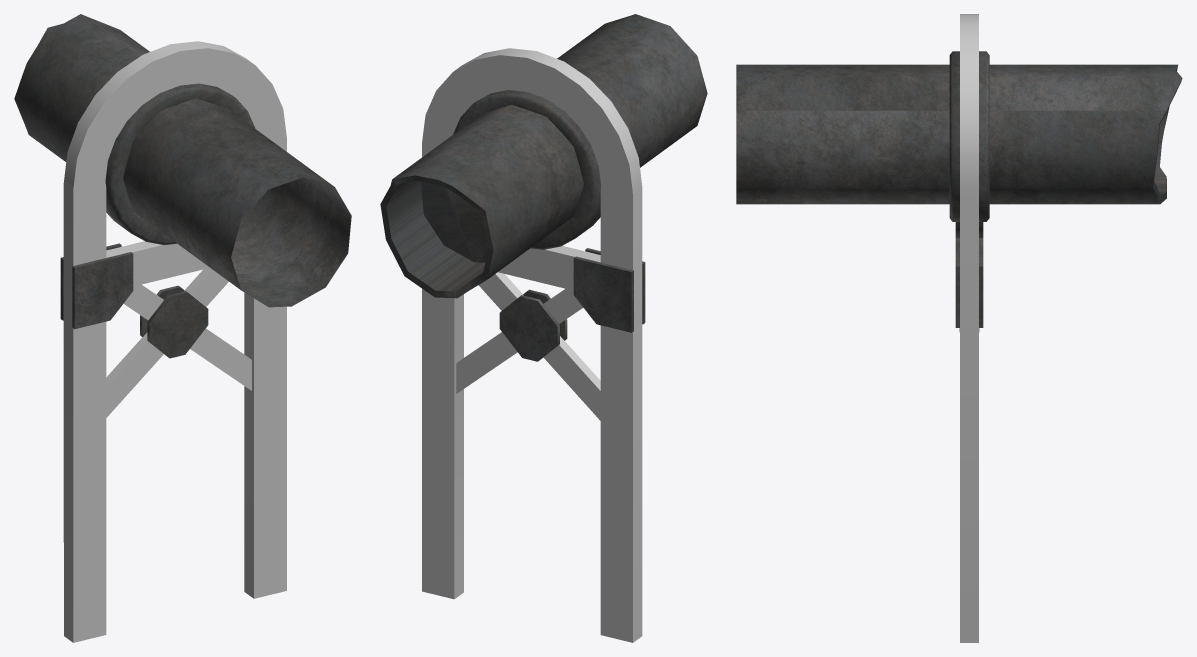
Rendered from GasePipeBroken.fbx.
3 views of the same model, side by side, from view 1: azimuth 30°, elevation 25°; view 2: azimuth 150°, elevation 25°; view 3: azimuth 270°, elevation 25° (orthographic).
Visible parts, largest first — view 1: GasePipeBroken; view 2: GasePipeBroken; view 3: GasePipeBroken.
Boxes of the visible parts, x1,y1,x2,y2 form: GasePipeBroken: (14, 14, 351, 642); GasePipeBroken: (380, 14, 707, 642); GasePipeBroken: (736, 14, 1182, 642).
Size of the model in its own units: 1.07 by 2.68 by 1.91.
